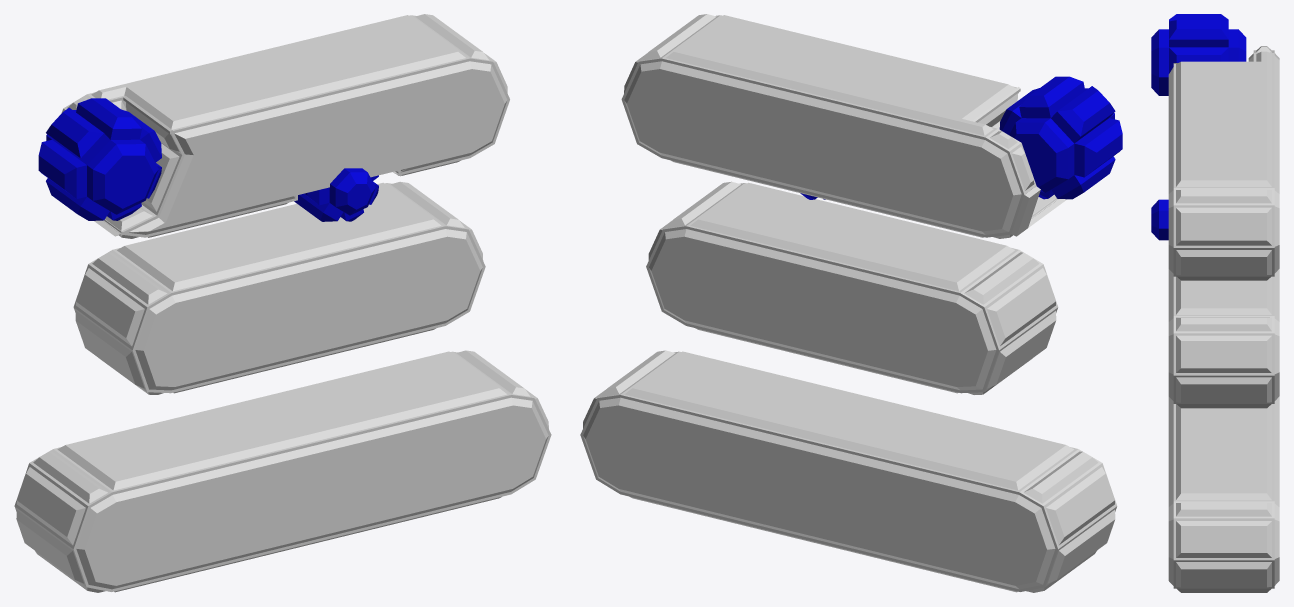
File: Ch_China_三_01.fbx
3 renders of one model, left to right at view 1: azimuth 30°, elevation 25°; view 2: azimuth 150°, elevation 25°; view 3: azimuth 270°, elevation 25°, orthographic. The views are drawn at different scales.
Parts seen in each view (by area): view 1: sphere1; view 2: sphere1; view 3: sphere1.
Part boxes in pixels (x1,y1,x2,y2): sphere1: [14, 14, 551, 592]; sphere1: [580, 14, 1122, 592]; sphere1: [1151, 14, 1279, 592].
Bounding box in the file's own units: 0.9507 × 0.8899 × 0.2541.
